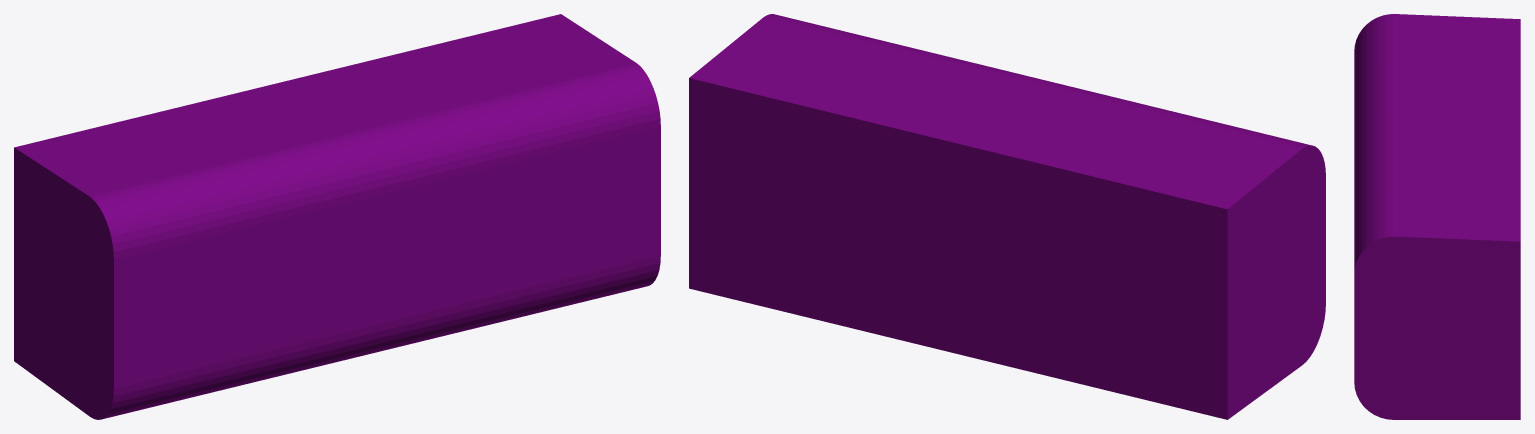
3 views of the same model, side by side, from view 1: azimuth 30°, elevation 25°; view 2: azimuth 150°, elevation 25°; view 3: azimuth 270°, elevation 25° (orthographic). The views are drawn at different scales.
Parts seen in each view (by area): view 1: decomp_11.obj; view 2: decomp_11.obj; view 3: decomp_11.obj.
Boxes of the visible parts, x1,y1,x2,y2 form: decomp_11.obj: (14, 14, 660, 419); decomp_11.obj: (689, 14, 1325, 419); decomp_11.obj: (1354, 14, 1520, 419).
Bounding box in the file's own units: 0.0273 × 0.0105 × 0.00862.
